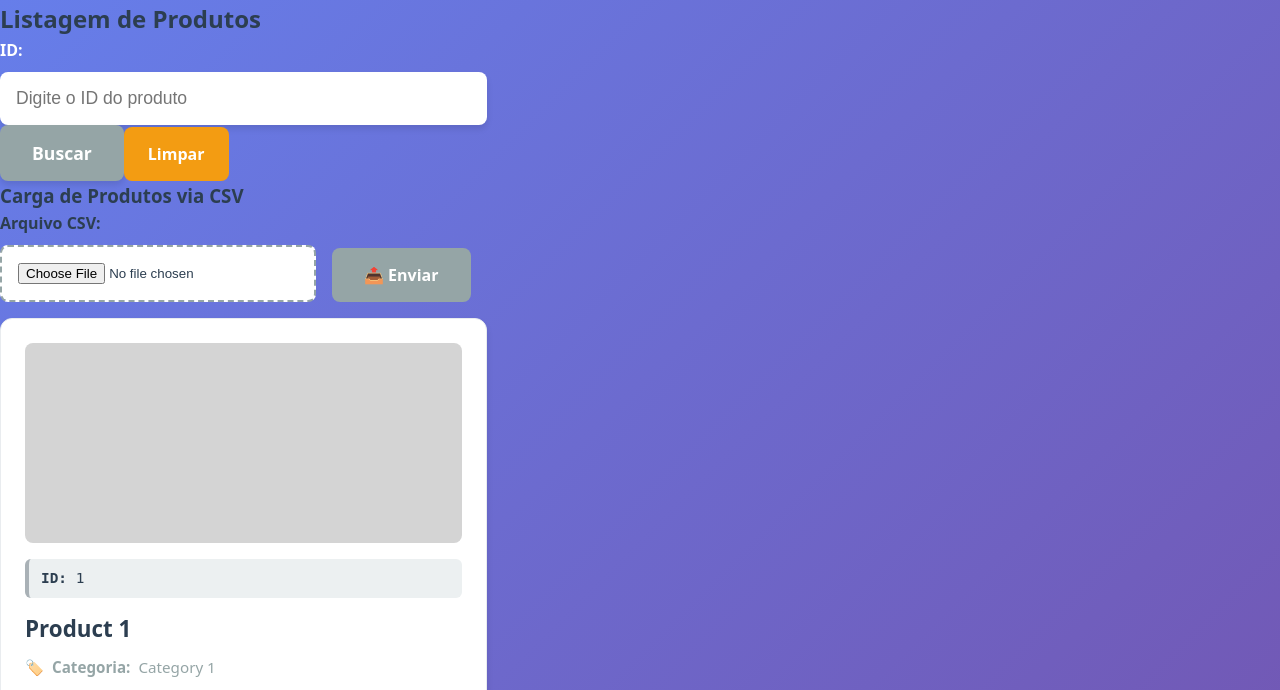
Test: ProductList › displays no products message when search returns no results
Expected: the heading "Product 1" is shown, [25,613,131,644]
Step 1. Type "999" into the field with placeholder "Digite o ID do produto" → (243, 98), box [0,72,486,125]
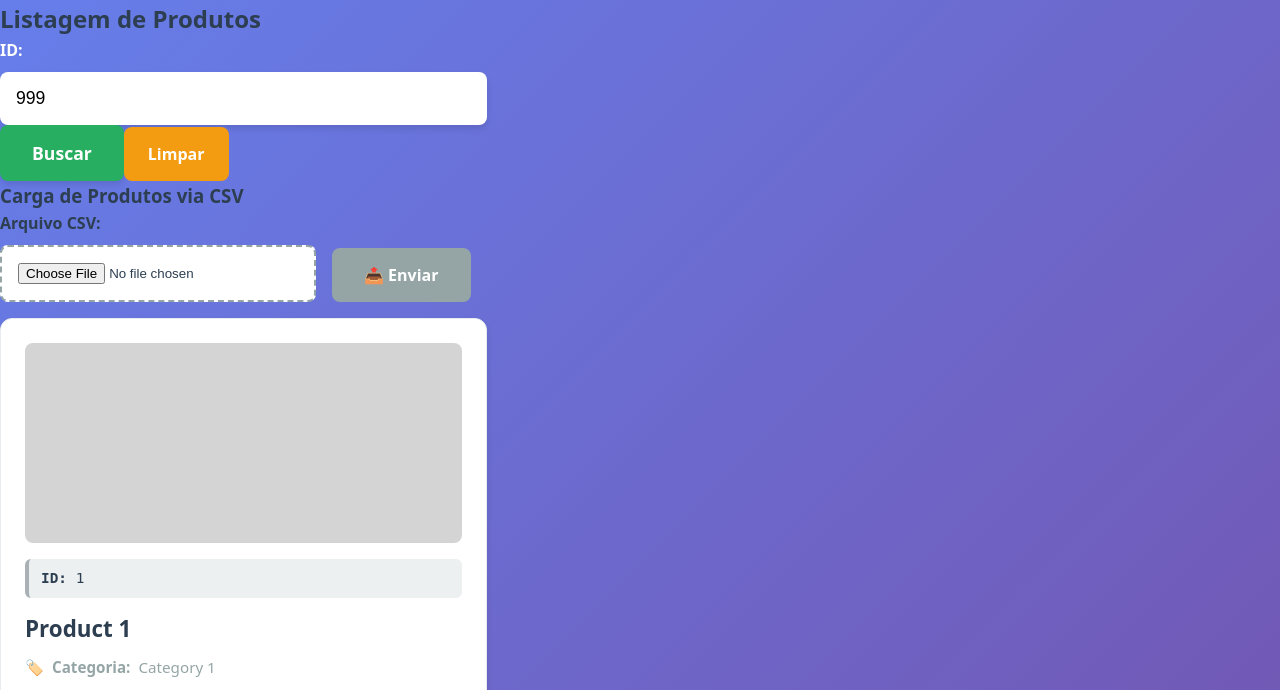
Step 2. Click the button "Buscar" → click(62, 153), box [0,125,124,181]
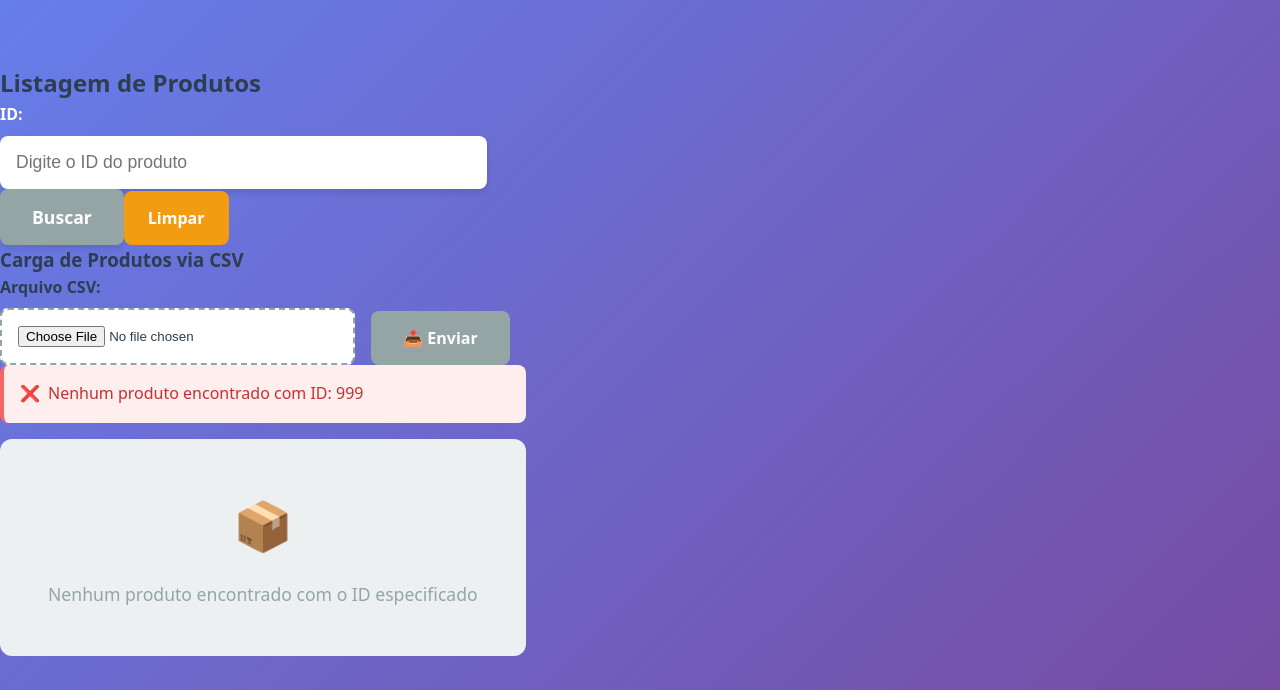
Expected: the text "Nenhum produto encontrado com o ID especificado" is shown, [0,439,526,656]
